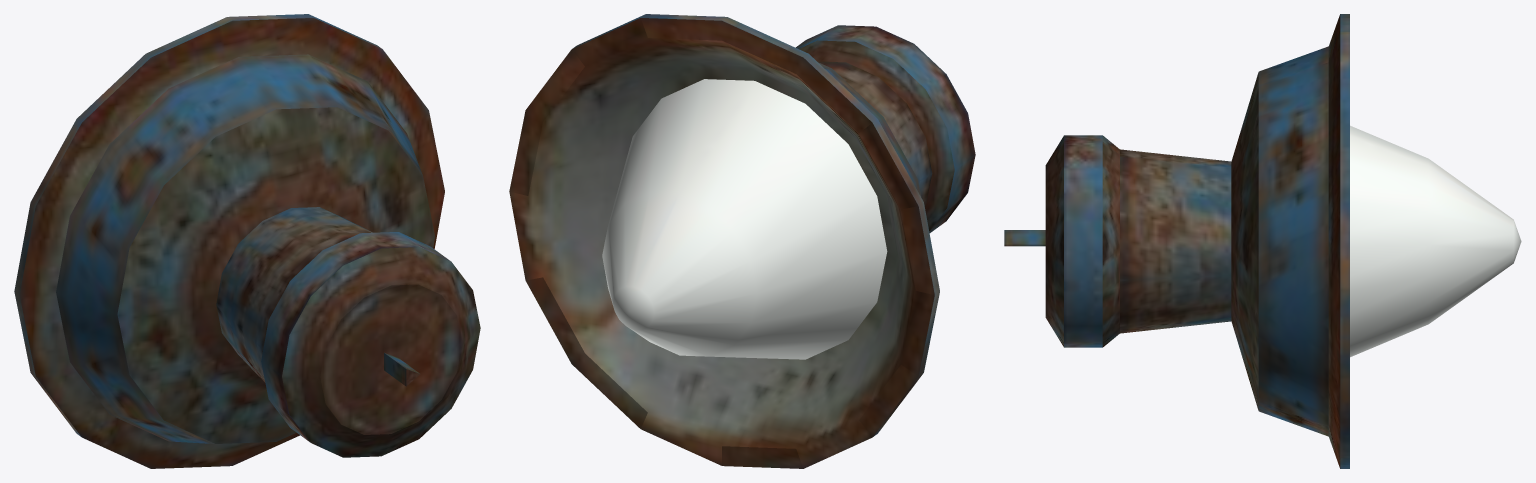
Rendered from prop_lamp01_on.glb.
3 renders of one model, left to right at view 1: azimuth 30°, elevation 25°; view 2: azimuth 150°, elevation 25°; view 3: azimuth 270°, elevation 25°, orthographic. The views are drawn at different scales.
Bounding box in the file's own units: 19.72 × 19.72 × 22.39.
2 materials, 2 textured.
